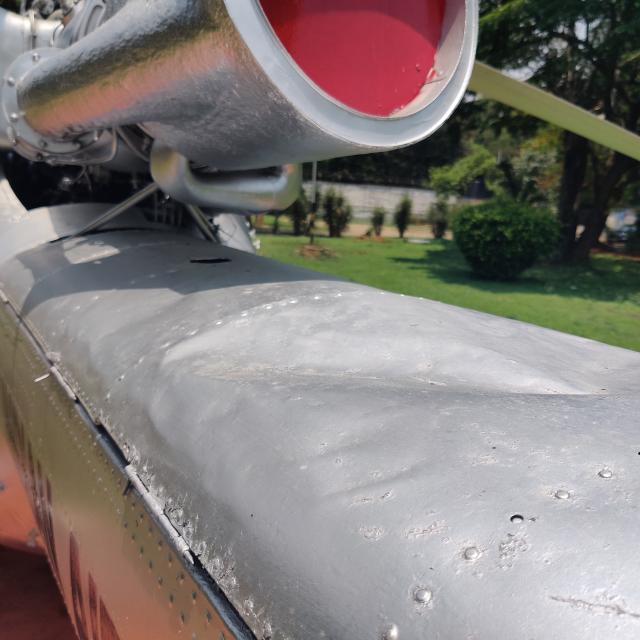dent: (141, 282, 625, 420), (282, 403, 442, 523)
